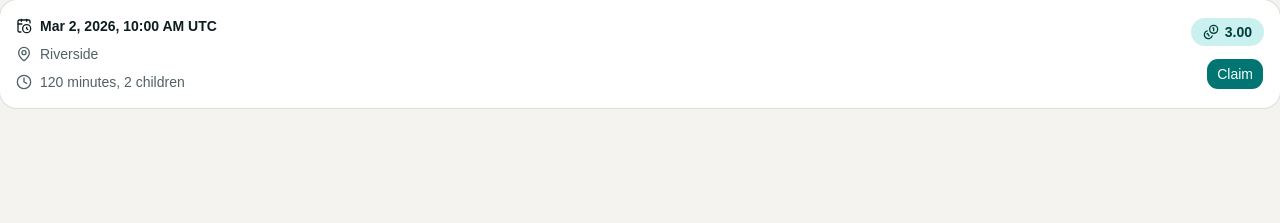
Test: OpenRequestsPage › explains a rejected claim (422 own_request)
Click the button with aria-label "claim the request in riverside" at (1235, 74), box [1206,58,1264,90]
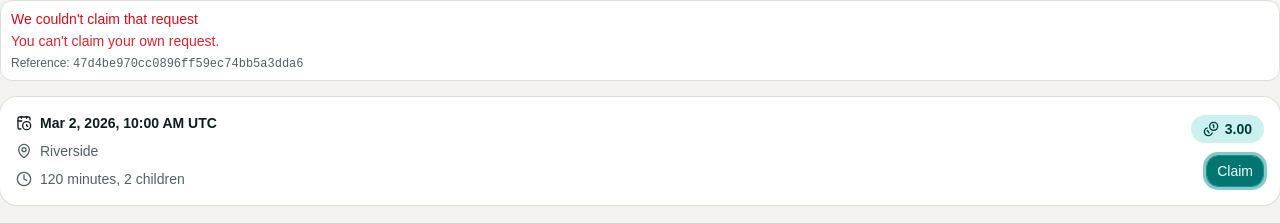
Expected: the message shows "can.t claim your own", [11,33,219,49]
